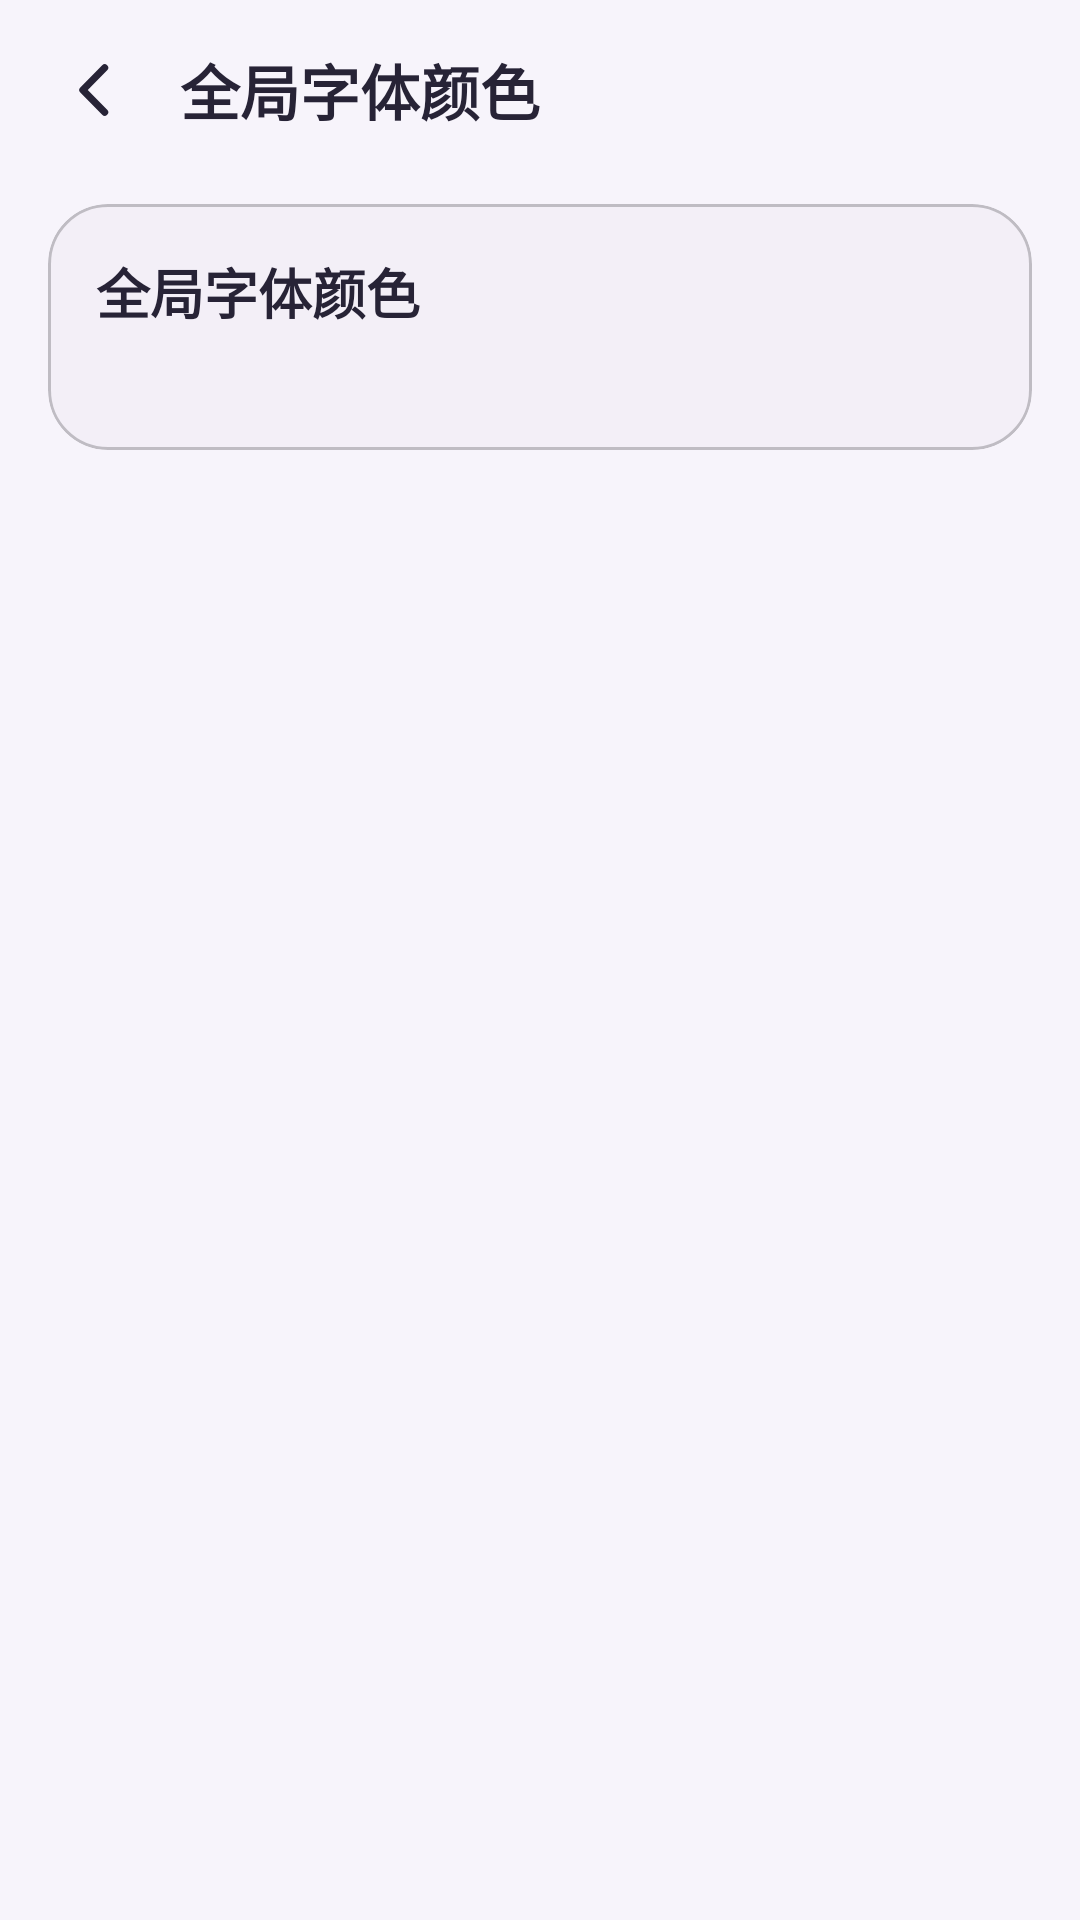

Point at icon controls on the screen. Image size 1080w x 1920h, points as (x=x, y=y).
返回: (x=94, y=90)
